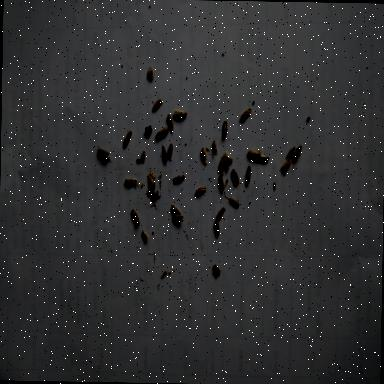pbw: (292, 144, 303, 166), (153, 127, 170, 141), (97, 148, 111, 164), (122, 129, 134, 147), (131, 208, 141, 228), (279, 160, 292, 175), (232, 168, 241, 188), (218, 174, 228, 191), (212, 264, 222, 281), (148, 186, 158, 203), (160, 144, 168, 164), (148, 170, 156, 190), (216, 206, 226, 222), (152, 98, 163, 112), (214, 219, 222, 238), (166, 113, 174, 132), (173, 174, 185, 186), (240, 108, 252, 120), (223, 151, 234, 164), (124, 178, 138, 188), (218, 157, 225, 177), (286, 147, 296, 161), (229, 197, 241, 208), (257, 154, 270, 164), (201, 148, 208, 166), (222, 119, 228, 140), (195, 186, 207, 196), (247, 150, 262, 158), (170, 204, 182, 214), (246, 166, 252, 185), (139, 150, 146, 166), (174, 110, 188, 118), (172, 214, 184, 223), (212, 140, 218, 156), (224, 157, 230, 172), (142, 230, 150, 240), (168, 143, 172, 162), (160, 271, 168, 279)
